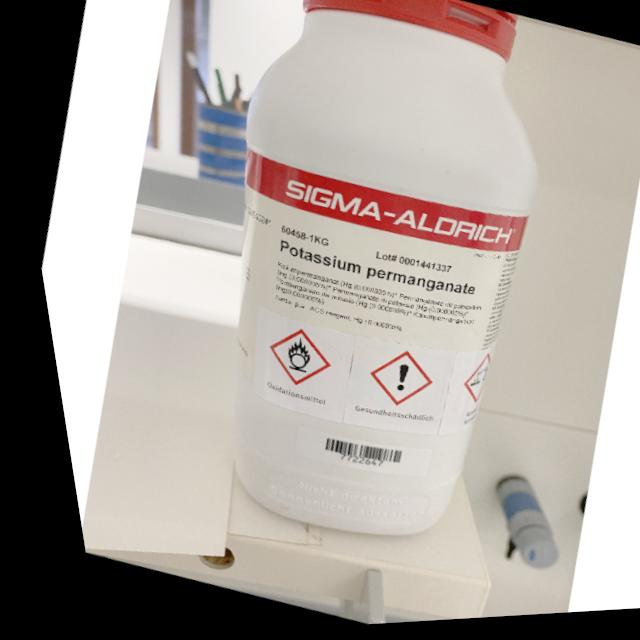corrosive: (440, 354, 485, 412)
health-ozone layer hazard: (344, 344, 430, 422)
oxidising: (243, 320, 331, 400)
